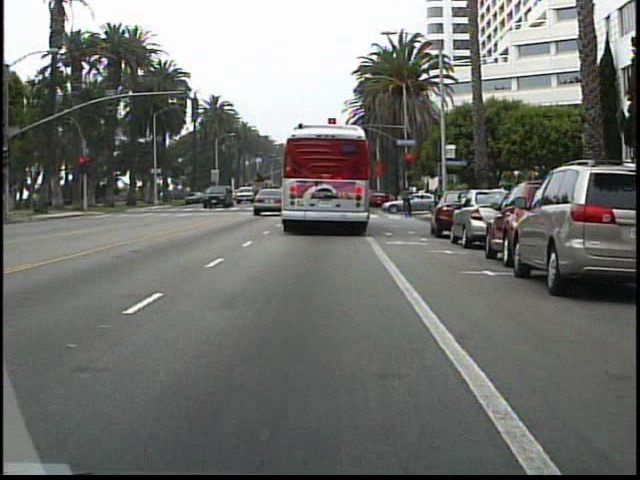person: (395, 184, 414, 217)
